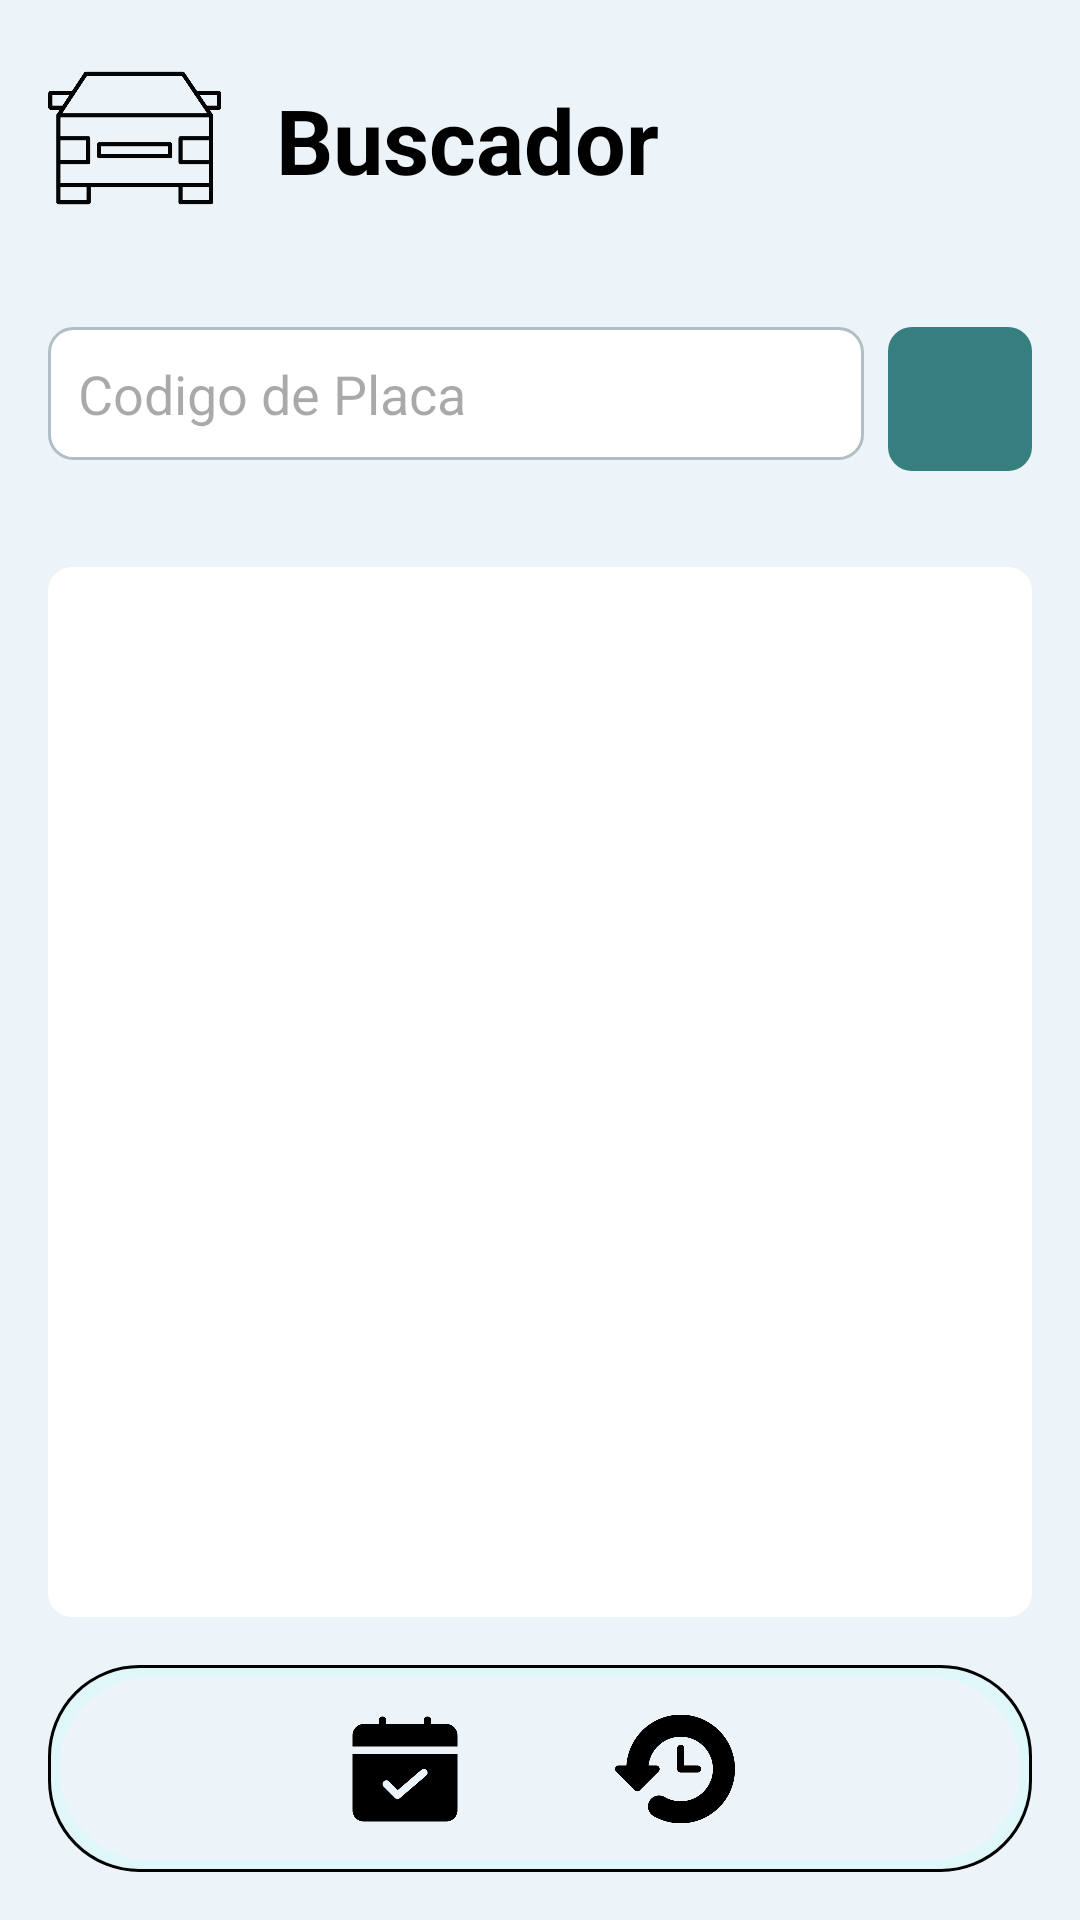

Icon bounding boxes for this 1080px x 1920px phone screenshot, format (x1, y1, x2, y2):
calendar: (352, 1716, 458, 1822)
car: (48, 71, 221, 205)
record: (615, 1715, 735, 1823)
